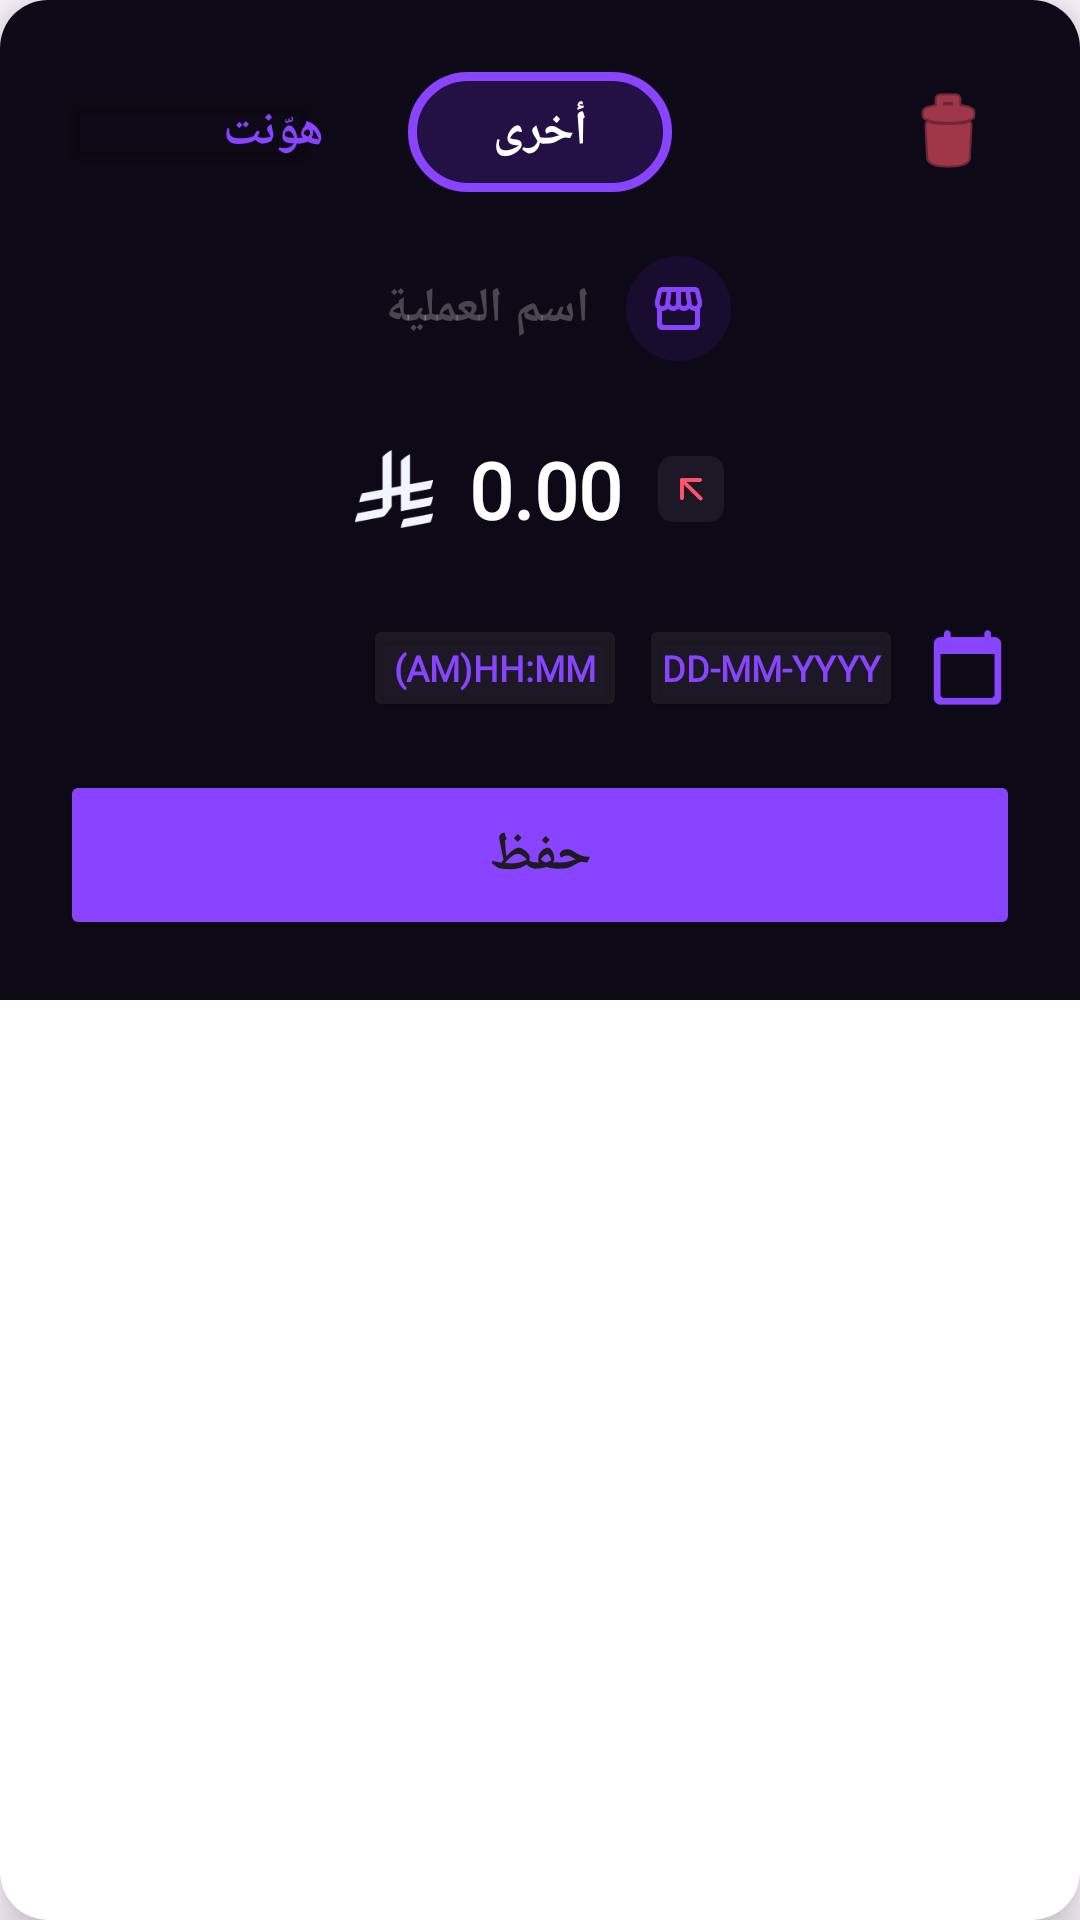

Screen size 1080×1920. Icon name, then its center in pixels as (x=x, y=y):
calendar today: (x=967, y=667)
delete: (x=948, y=130)
riyal symbol: (x=394, y=489)
storefront: (x=678, y=308)
